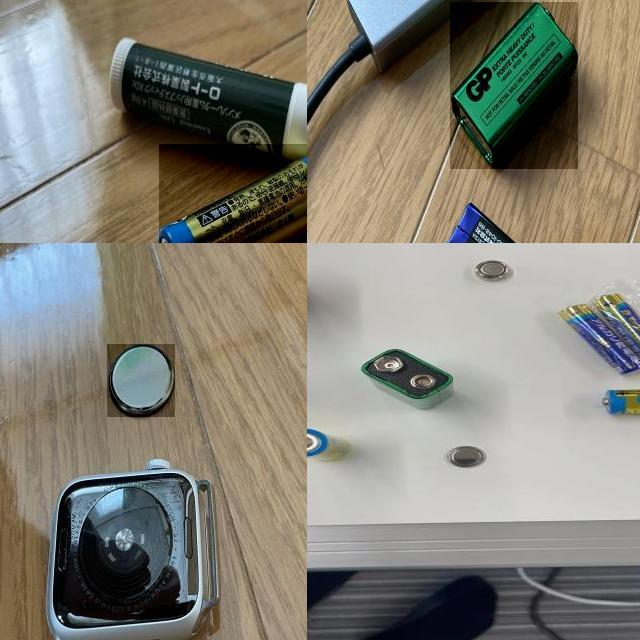9V: (451, 2, 579, 169), (355, 349, 459, 410), (444, 204, 578, 243)
